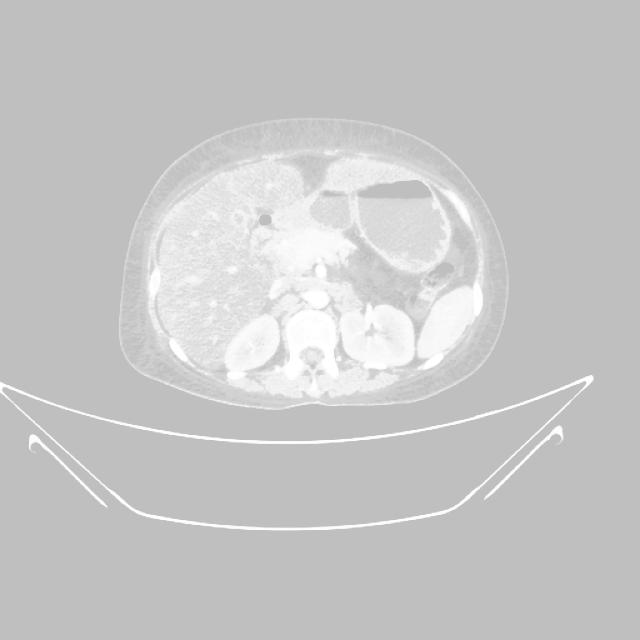NORMAL: (66, 98, 541, 401)
